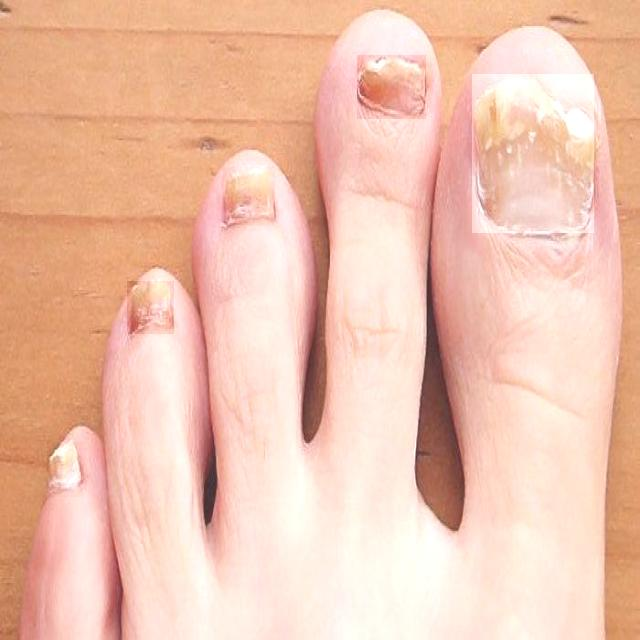diabetes: (472, 74, 594, 233), (358, 56, 426, 119), (223, 167, 275, 226), (128, 281, 174, 334), (47, 442, 82, 497)
